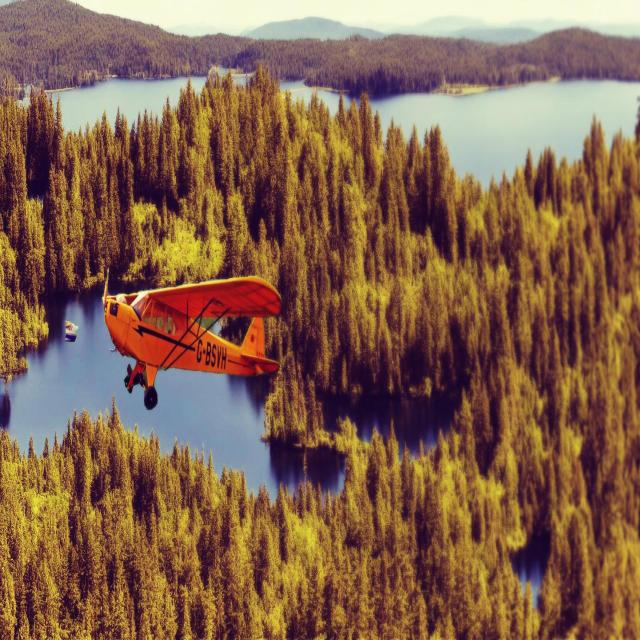airplane: (101, 267, 282, 410)
